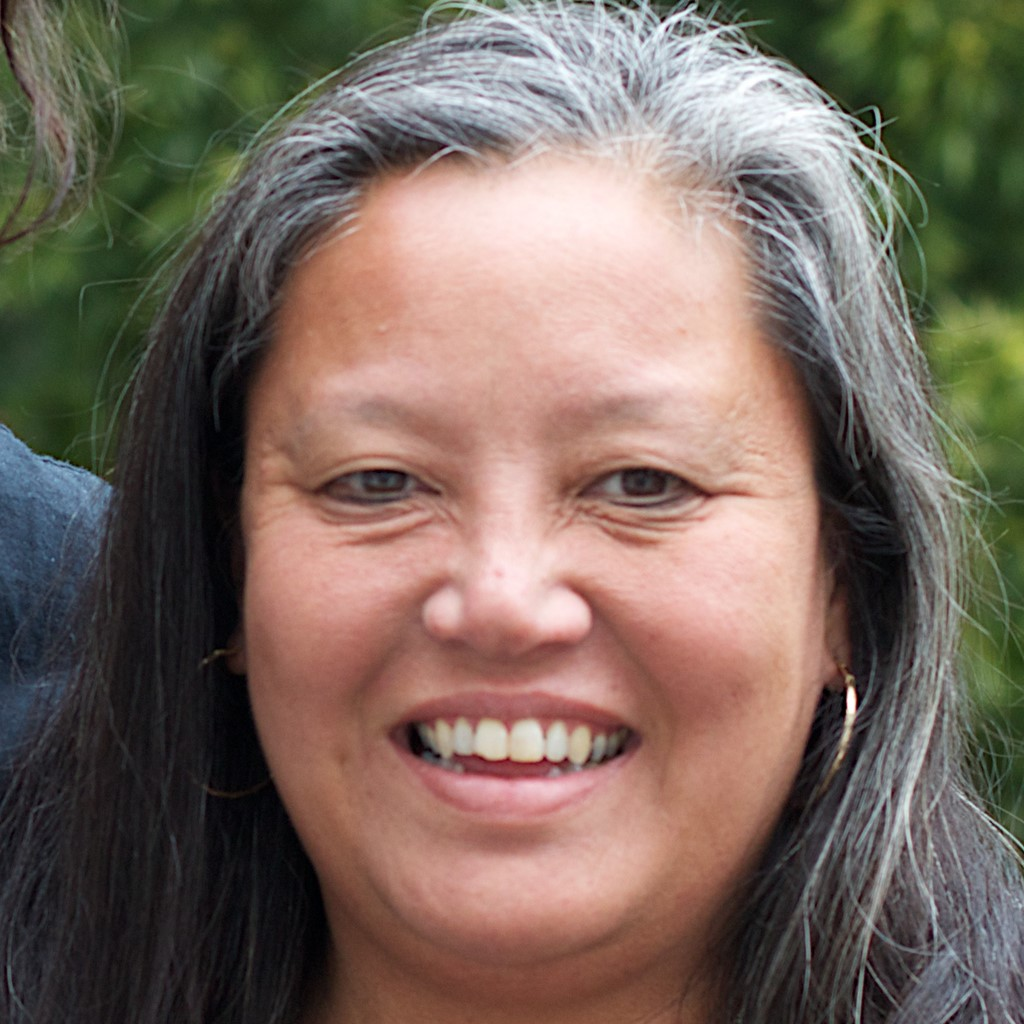sin_mascara: (235, 190, 820, 972)
